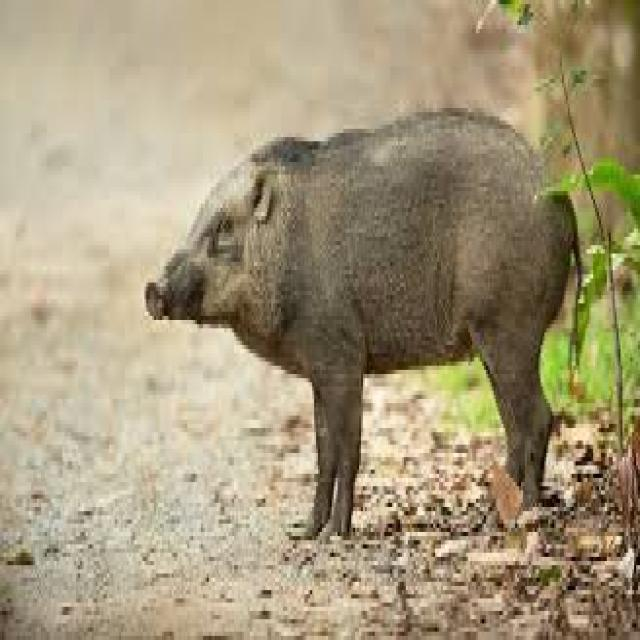Boar: (143, 110, 576, 545)
